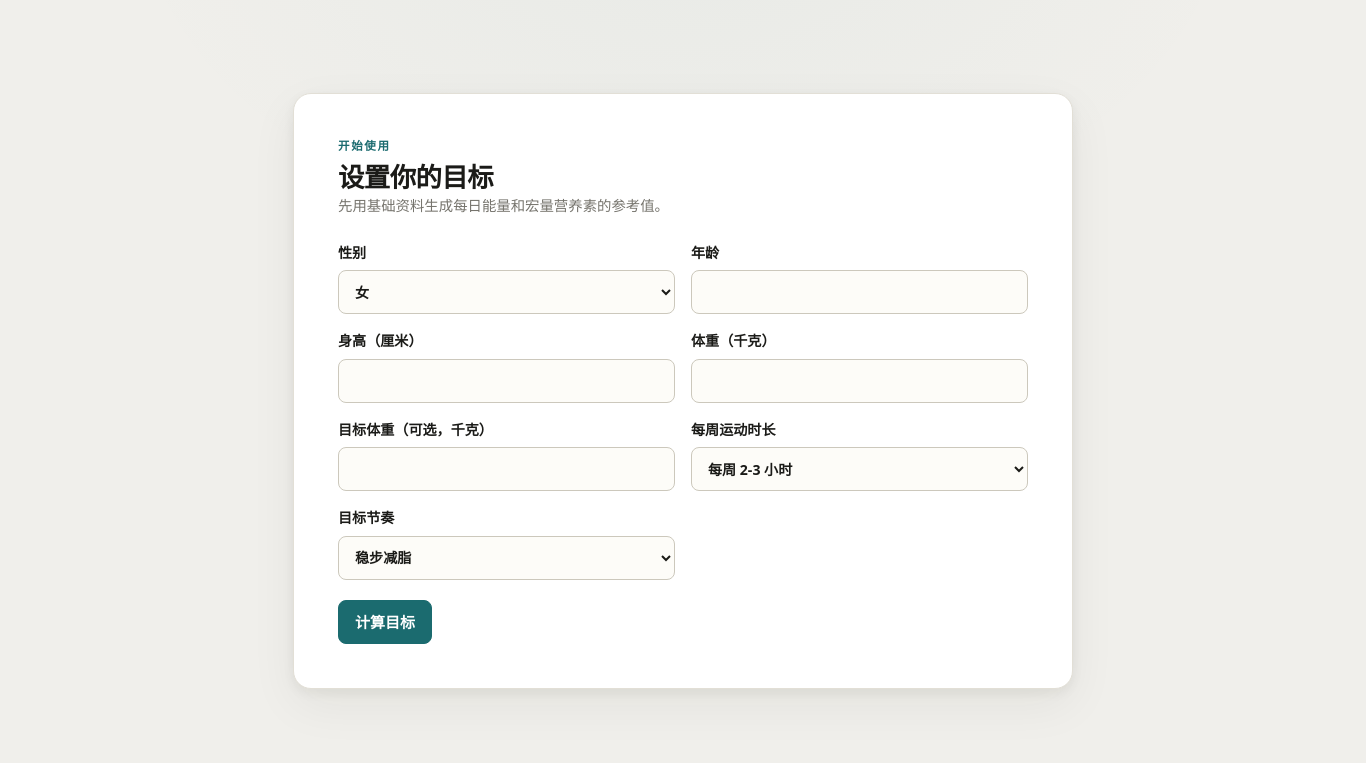
Test: onboarding calculates an estimated target and persists only after confirmation
Check: the heading "设置你的目标" is shown, box [338, 160, 493, 196]
Check: the dropdown labelled "性别" is shown, box [338, 270, 675, 314]
Type "30" into the number field labelled "年龄" at x=860, y=292, box [691, 270, 1028, 314]
Type "175" into the number field labelled "身高（厘米）" at x=506, y=381, box [338, 359, 675, 403]
Type "80" into the number field labelled "体重（千克）" at x=860, y=381, box [691, 359, 1028, 403]
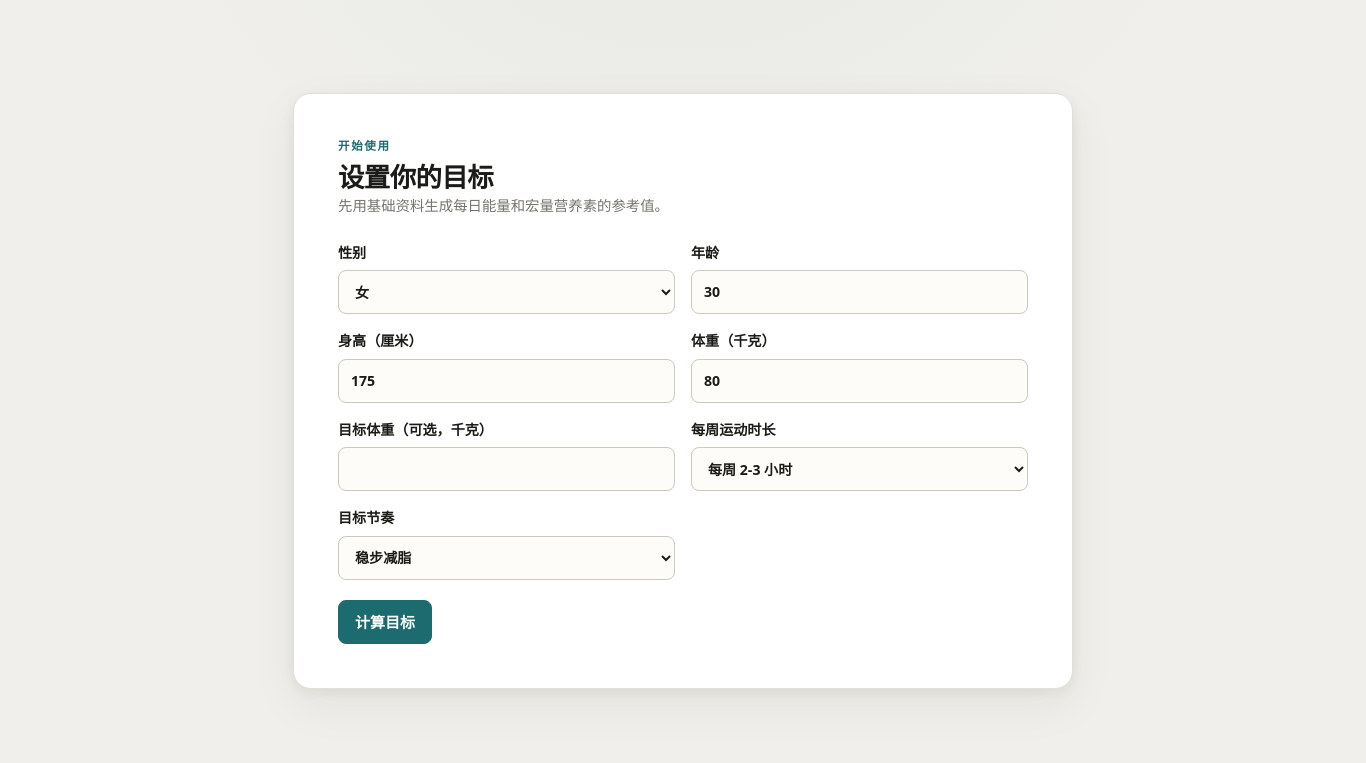
Click the button "计算目标" at x=385, y=622, box [338, 600, 432, 644]
(page scrolled)
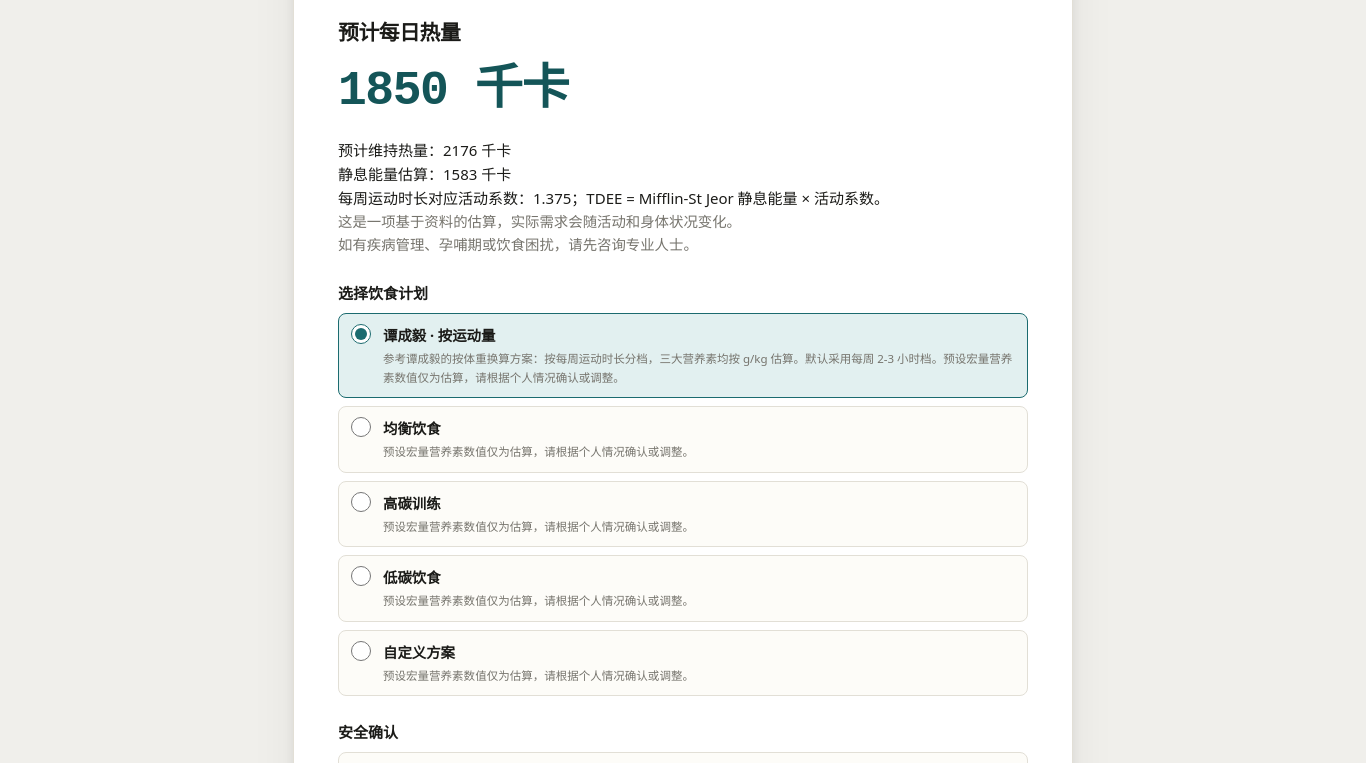
Check: the heading "预计每日热量" is shown, box [338, 18, 460, 46]
Check: the text "这是一项基于资料的估算，实际需求会随活动和身体状况变化。" is shown, box [338, 212, 741, 231]
Check: the text "如有疾病管理、孕哺期或饮食困扰，请先咨询专业人士。" is shown, box [338, 236, 698, 254]
Click the radio button labelled "均衡饮食" at x=361, y=427, box [351, 417, 371, 437]
(page scrolled)
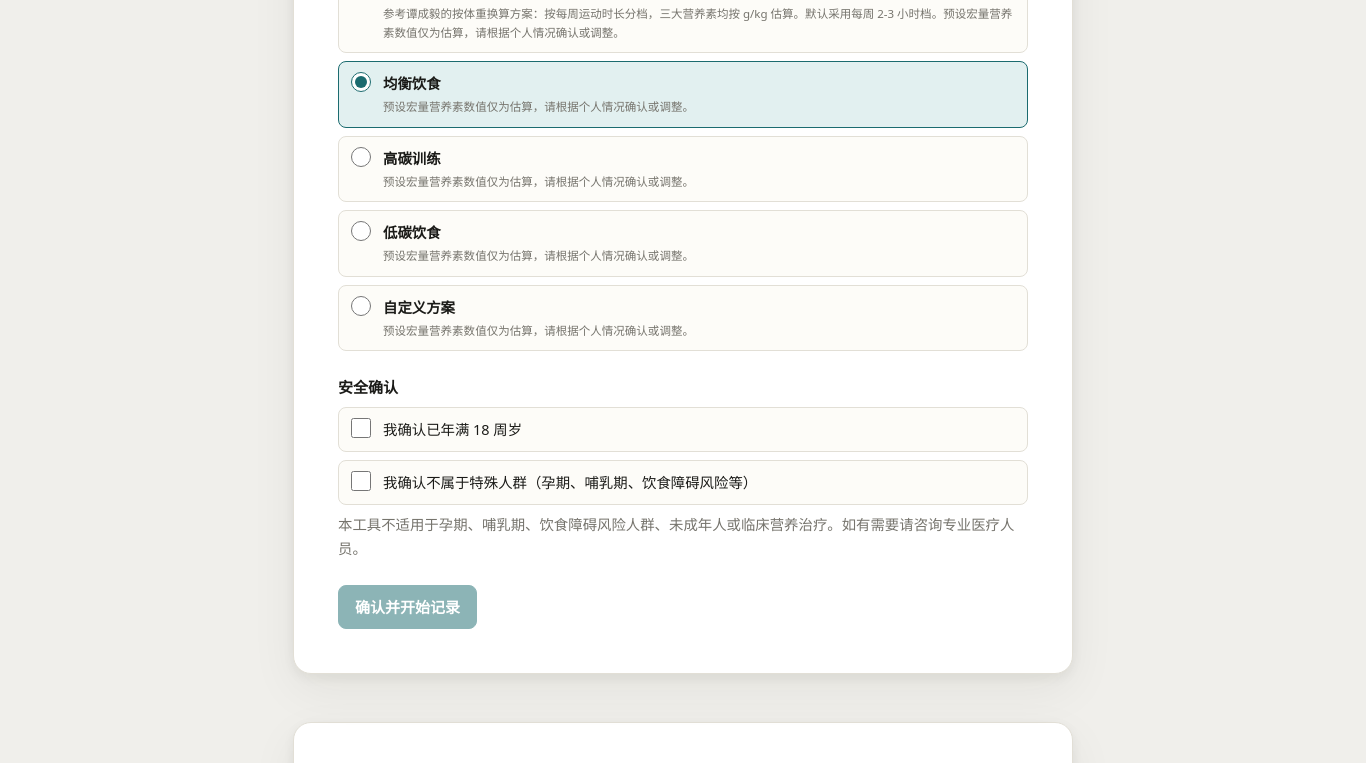
Click the checkbox labelled "我确认已年满 18 周岁" at x=361, y=428, box [351, 418, 371, 438]
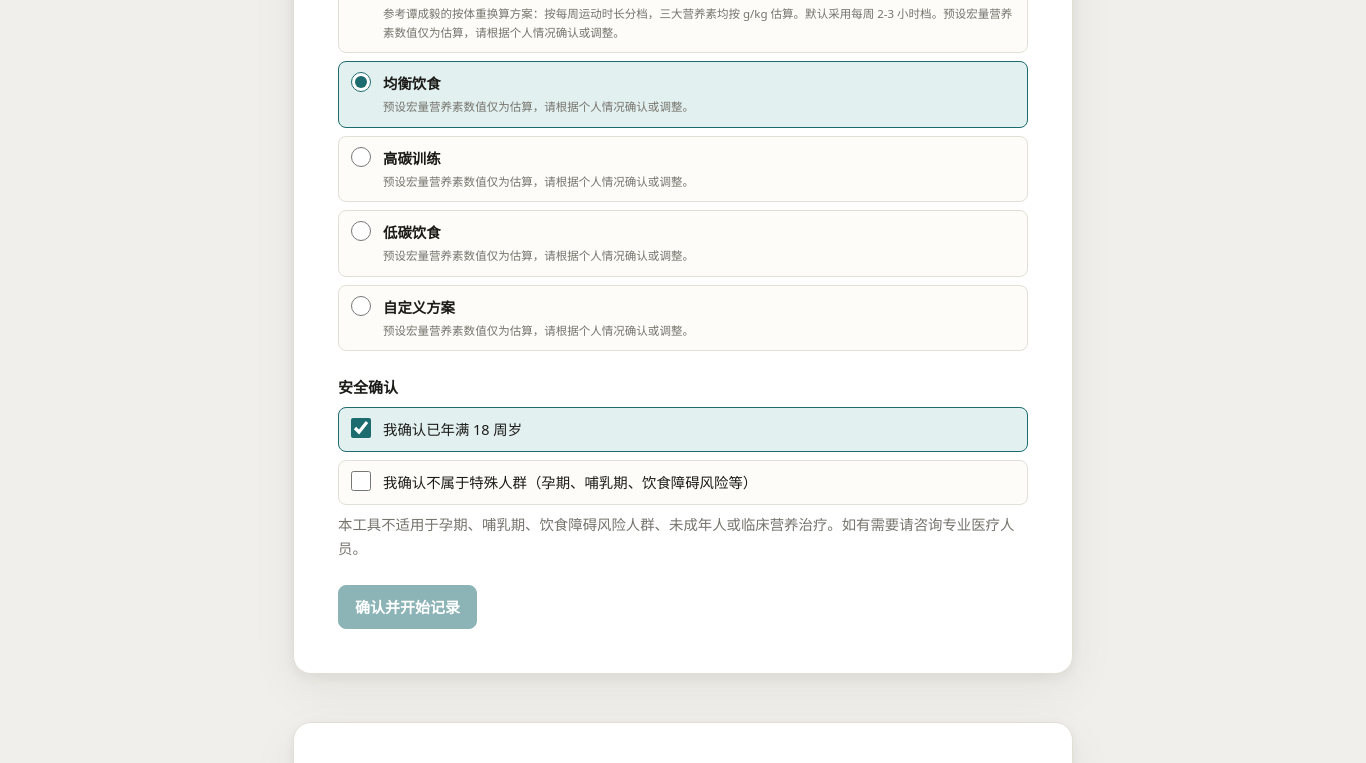
Click the checkbox labelled "我确认不属于特殊人群（孕期、哺乳期、饮食障碍风险等）" at x=361, y=481, box [351, 471, 371, 491]
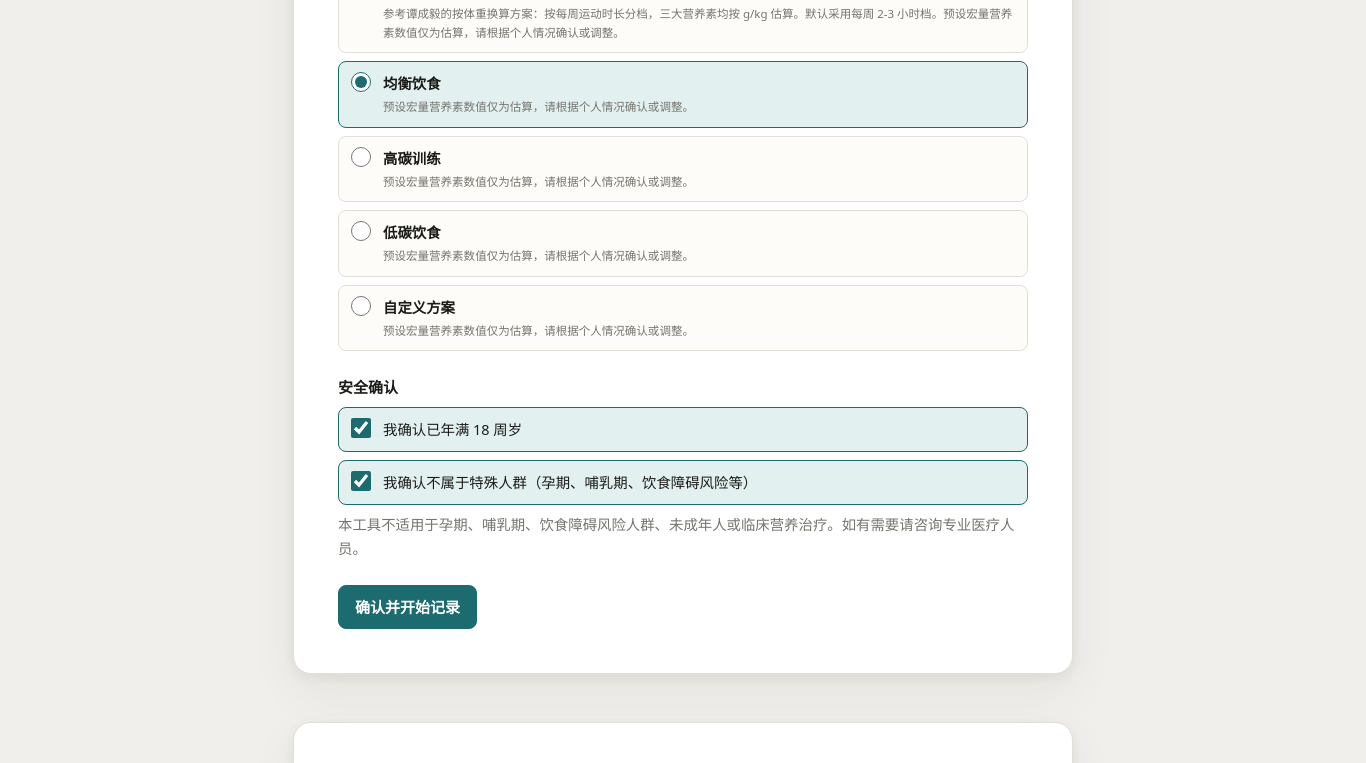
Click the button "确认并开始记录" at x=408, y=607, box [338, 585, 477, 629]
(page scrolled)
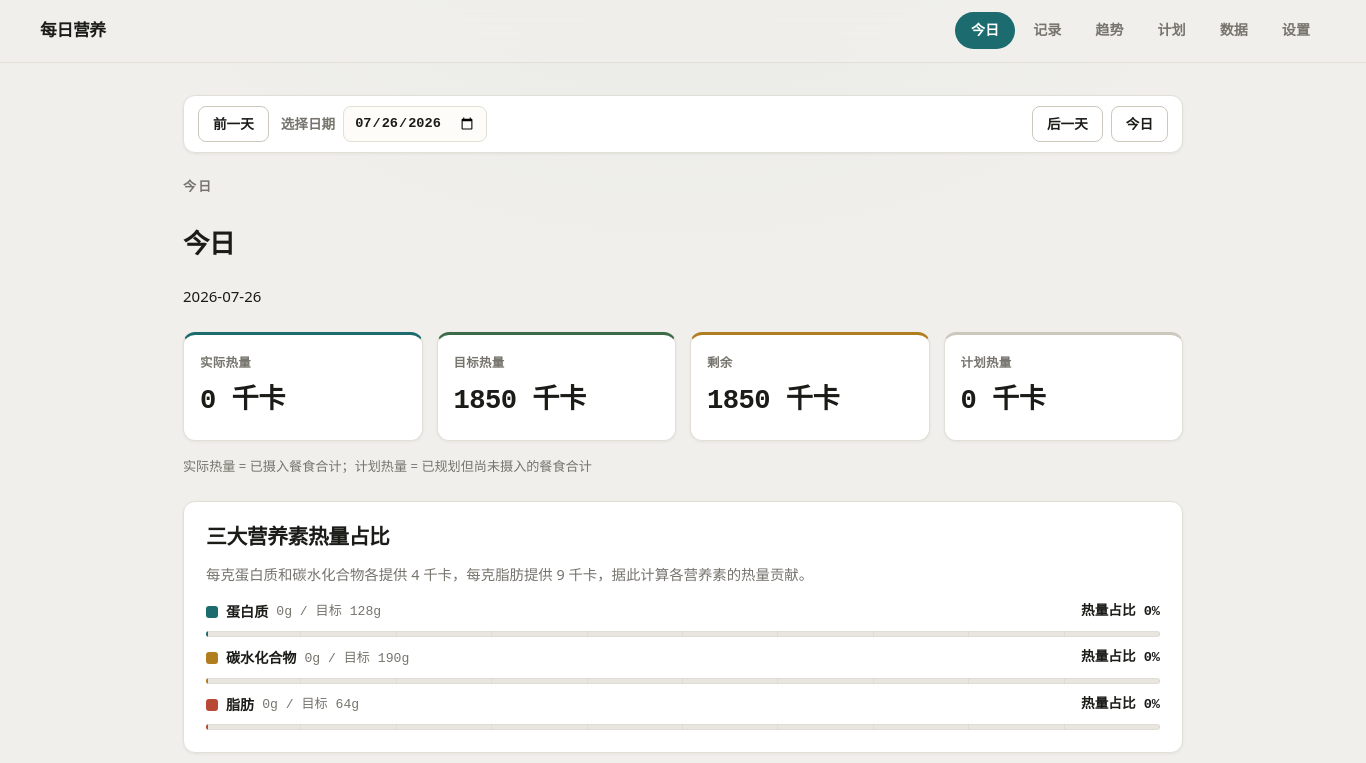
Check: the heading "今日" is shown, box [183, 225, 235, 261]
